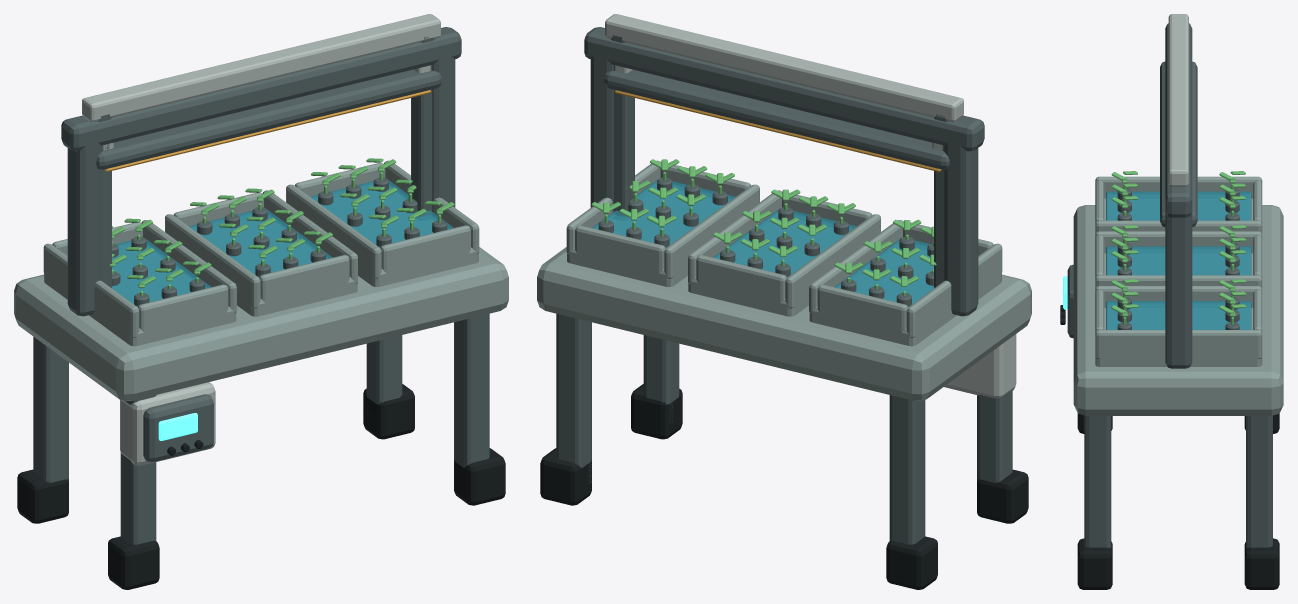
Rendered from Table de germination.glb.
3 renders of one model, left to right at view 1: azimuth 30°, elevation 25°; view 2: azimuth 150°, elevation 25°; view 3: azimuth 270°, elevation 25°, orthographic. The views are drawn at different scales.
Visible parts, largest first — view 1: 10_germination_table_Bed, 10_germination_table_Light_Arch_Top, 10_germination_table_Light_Support_Top_Beam, 10_germination_table_Light_Light_Housing, 10_germination_table_Light_Arch_Post_-1, 10_germination_table_Leg_1_-1, 10_germination_table_Leg_-1_1, 10_germination_table_Light_Arch_Post_1, 10_germination_table_Seed_Tray_2_Water_Surface, 10_germination_table_Seed_Tray_3_Water_Surface, 10_germination_table_Leg_-1_-1, 10_germination_table_Control_Housing (+25 smaller); view 2: 10_germination_table_Bed, 10_germination_table_Light_Arch_Top, 10_germination_table_Light_Support_Top_Beam, 10_germination_table_Light_Light_Housing, 10_germination_table_Light_Arch_Post_-1, 10_germination_table_Leg_-1_1, 10_germination_table_Leg_1_1, 10_germination_table_Light_Arch_Post_1, 10_germination_table_Leg_-1_-1, 10_germination_table_Seed_Tray_2_Water_Surface, 10_germination_table_Seed_Tray_3_Water_Surface, 10_germination_table_Seed_Tray_2_Tray_Wall_Rear (+23 smaller); view 3: 10_germination_table_Bed, 10_germination_table_Light_Arch_Post_1, 10_germination_table_Seed_Tray_3_Tray_Wall_Right, 10_germination_table_Leg_1_-1, 10_germination_table_Light_Support_Top_Beam, 10_germination_table_Leg_1_1, 10_germination_table_Seed_Tray_2_Water_Surface, 10_germination_table_Seed_Tray_3_Water_Surface, 10_germination_table_Seed_Tray_1_Water_Surface, 10_germination_table_Light_Arch_Top, 10_germination_table_Light_Light_Housing, 10_germination_table_Seed_Tray_2_Tray_Wall_Left (+14 smaller).
Part boxes in pixels (left/top/right/bottom): 10_germination_table_Bed: left=14, top=247, right=508, bottom=400; 10_germination_table_Light_Arch_Top: left=61, top=27, right=461, bottom=151; 10_germination_table_Light_Support_Top_Beam: left=82, top=14, right=440, bottom=121; 10_germination_table_Light_Light_Housing: left=96, top=69, right=441, bottom=169; 10_germination_table_Light_Arch_Post_-1: left=67, top=143, right=101, bottom=316; 10_germination_table_Leg_1_-1: left=454, top=313, right=489, bottom=467; 10_germination_table_Leg_-1_1: left=33, top=336, right=68, bottom=482; 10_germination_table_Light_Arch_Post_1: left=432, top=56, right=455, bottom=212; 10_germination_table_Seed_Tray_2_Water_Surface: left=189, top=208, right=332, bottom=277; 10_germination_table_Seed_Tray_3_Water_Surface: left=310, top=179, right=453, bottom=247; 10_germination_table_Leg_-1_-1: left=120, top=395, right=156, bottom=544; 10_germination_table_Control_Housing: left=143, top=394, right=213, bottom=461; 10_germination_table_Bed: left=537, top=247, right=1031, bottom=400; 10_germination_table_Light_Arch_Top: left=584, top=27, right=984, bottom=151; 10_germination_table_Light_Support_Top_Beam: left=605, top=14, right=963, bottom=121; 10_germination_table_Light_Light_Housing: left=604, top=69, right=949, bottom=169; 10_germination_table_Light_Arch_Post_-1: left=944, top=143, right=978, bottom=316; 10_germination_table_Leg_-1_1: left=889, top=395, right=925, bottom=544; 10_germination_table_Leg_1_1: left=556, top=313, right=591, bottom=483; 10_germination_table_Light_Arch_Post_1: left=590, top=56, right=613, bottom=212; 10_germination_table_Leg_-1_-1: left=977, top=390, right=1012, bottom=482; 10_germination_table_Seed_Tray_2_Water_Surface: left=713, top=208, right=856, bottom=277; 10_germination_table_Seed_Tray_3_Water_Surface: left=592, top=179, right=735, bottom=247; 10_germination_table_Seed_Tray_2_Tray_Wall_Rear: left=696, top=255, right=786, bottom=304; 10_germination_table_Bed: left=1073, top=205, right=1283, bottom=415; 10_germination_table_Light_Arch_Post_1: left=1165, top=212, right=1192, bottom=368; 10_germination_table_Seed_Tray_3_Tray_Wall_Right: left=1095, top=330, right=1262, bottom=358; 10_germination_table_Leg_1_-1: left=1084, top=415, right=1111, bottom=547; 10_germination_table_Light_Support_Top_Beam: left=1168, top=14, right=1188, bottom=186; 10_germination_table_Leg_1_1: left=1246, top=415, right=1272, bottom=547; 10_germination_table_Seed_Tray_2_Water_Surface: left=1106, top=246, right=1251, bottom=275; 10_germination_table_Seed_Tray_3_Water_Surface: left=1106, top=301, right=1251, bottom=329; 10_germination_table_Seed_Tray_1_Water_Surface: left=1106, top=191, right=1251, bottom=220; 10_germination_table_Light_Arch_Top: left=1165, top=23, right=1192, bottom=217; 10_germination_table_Light_Light_Housing: left=1160, top=61, right=1197, bottom=226; 10_germination_table_Seed_Tray_2_Tray_Wall_Left: left=1095, top=231, right=1262, bottom=253.
Size of the model in its own units: 1.55 by 1.69 by 0.83.
